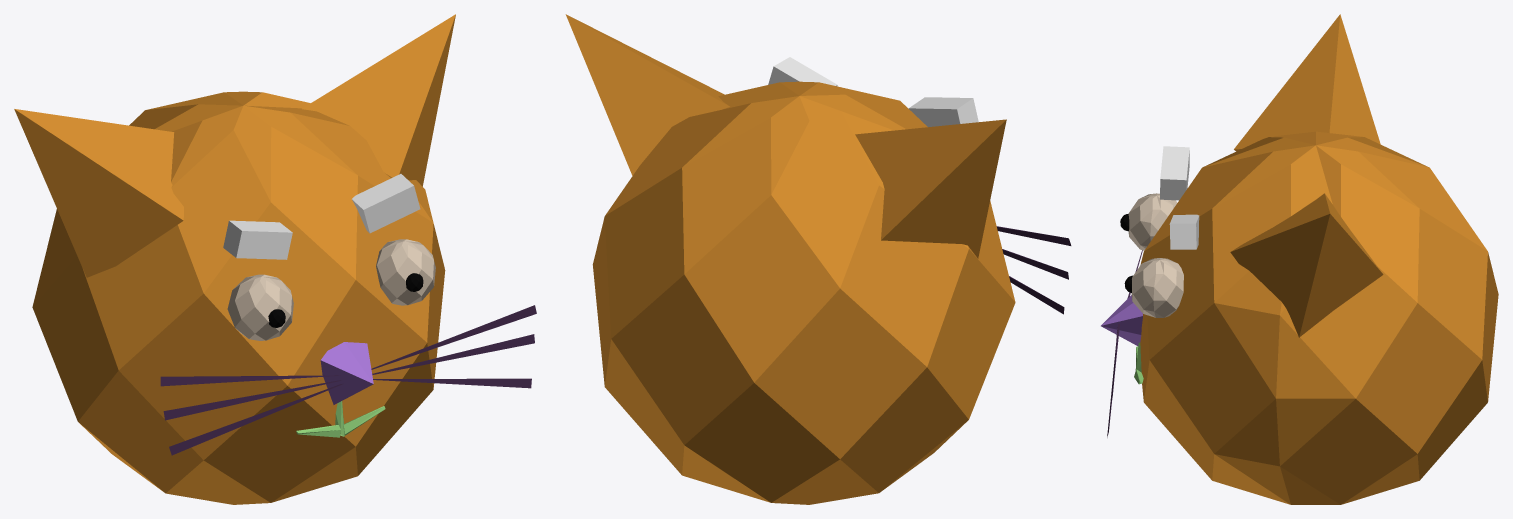
Rendered from catfirstcolors.fbx.
3 renders of one model, left to right at view 1: azimuth 30°, elevation 25°; view 2: azimuth 150°, elevation 25°; view 3: azimuth 270°, elevation 25°, orthographic. The views are drawn at different scales.
Parts seen in each view (by area): view 1: Sphere, Cone, Cone.001, Sphere.001, Sphere.002, Cube.001, Sphere.003, Cube, Cylinder.002, Cylinder.001, Cylinder, Cylinder.005 (+2 smaller); view 2: Sphere, Cone, Cone.001, Cube, Cube.001; view 3: Sphere, Cone.001, Cone, Sphere.002, Sphere.001, Cube, Sphere.003, Cube.001.
Boxes of the visible parts, bbox=[...] form: Sphere: bbox=[32, 91, 445, 504]; Cone: bbox=[14, 109, 183, 277]; Cone.001: bbox=[302, 14, 455, 186]; Sphere.001: bbox=[227, 274, 293, 340]; Sphere.002: bbox=[376, 239, 435, 305]; Cube.001: bbox=[352, 174, 420, 233]; Sphere.003: bbox=[320, 342, 373, 404]; Cube: bbox=[223, 220, 292, 259]; Cylinder.002: bbox=[169, 383, 343, 455]; Cylinder.001: bbox=[163, 380, 341, 420]; Cylinder: bbox=[160, 375, 340, 386]; Cylinder.005: bbox=[371, 305, 536, 369]; Sphere: bbox=[592, 81, 1015, 504]; Cone: bbox=[855, 119, 1006, 258]; Cone.001: bbox=[565, 14, 729, 175]; Cube: bbox=[908, 97, 978, 127]; Cube.001: bbox=[768, 57, 837, 86]; Sphere: bbox=[1140, 131, 1498, 504]; Cone.001: bbox=[1230, 193, 1383, 337]; Cone: bbox=[1234, 14, 1380, 151]; Sphere.002: bbox=[1131, 258, 1183, 317]; Sphere.001: bbox=[1128, 193, 1177, 250]; Cube: bbox=[1160, 146, 1189, 200]; Sphere.003: bbox=[1101, 295, 1142, 345]; Cube.001: bbox=[1169, 214, 1199, 249].
Size of the model in its own units: 238 by 221 by 207.
